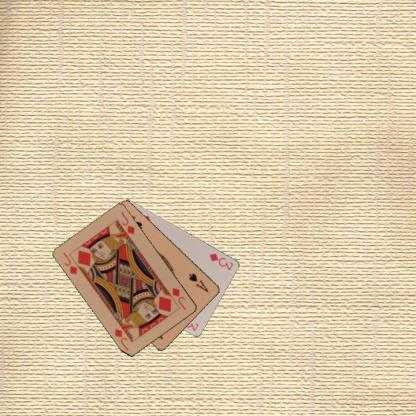3d: (206, 250, 234, 272)
As: (186, 271, 210, 294)
Jd: (170, 284, 188, 312), (60, 249, 78, 276)
